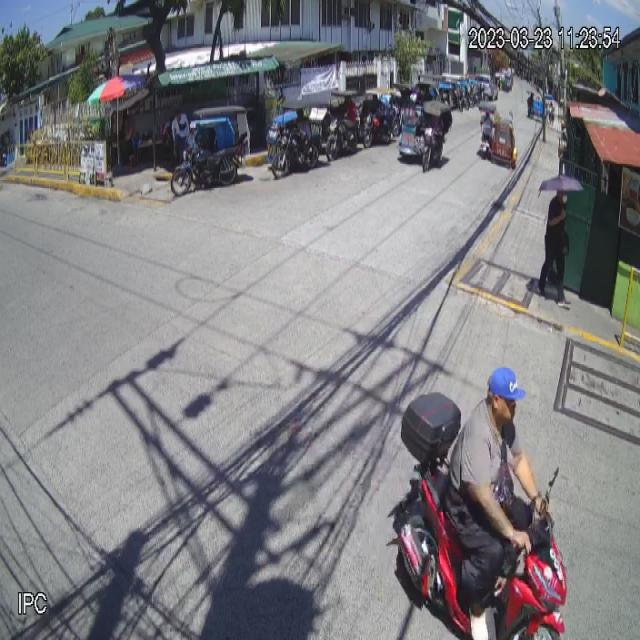Motorcycle: (386, 393, 569, 640)
Tricycle: (170, 106, 250, 196)
